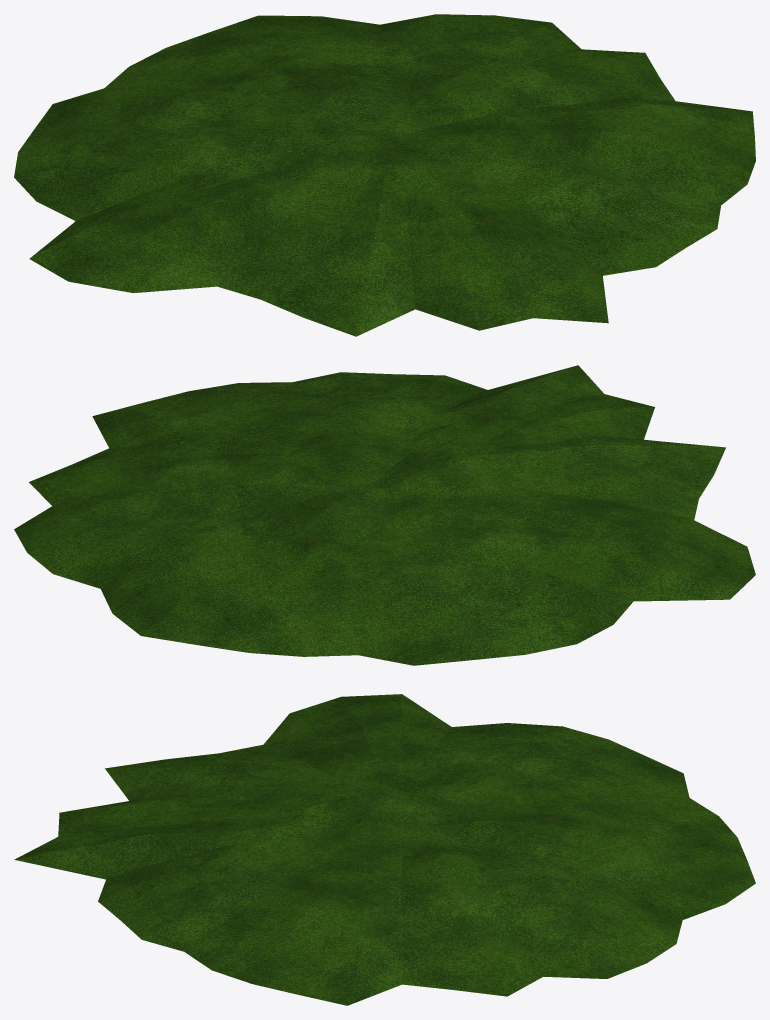
Rendered from feather_moss_v02.glb.
The picture shows the model from 3 angles, top to bottom: view 1: azimuth 30°, elevation 25°; view 2: azimuth 150°, elevation 25°; view 3: azimuth 270°, elevation 25°; orthographic projection. The views are drawn at different scales.
Parts seen in each view (by area): view 1: feather_moss_v02; view 2: feather_moss_v02; view 3: feather_moss_v02.
Boxes of the visible parts, x1=… form: feather_moss_v02: x1=14, y1=14, x2=755, y2=336; feather_moss_v02: x1=14, y1=365, x2=755, y2=665; feather_moss_v02: x1=14, y1=694, x2=755, y2=1005.
Bounding box in the file's own units: 0.8144 × 0.0488 × 0.819.
Materials: 1 (1 with a texture image).
